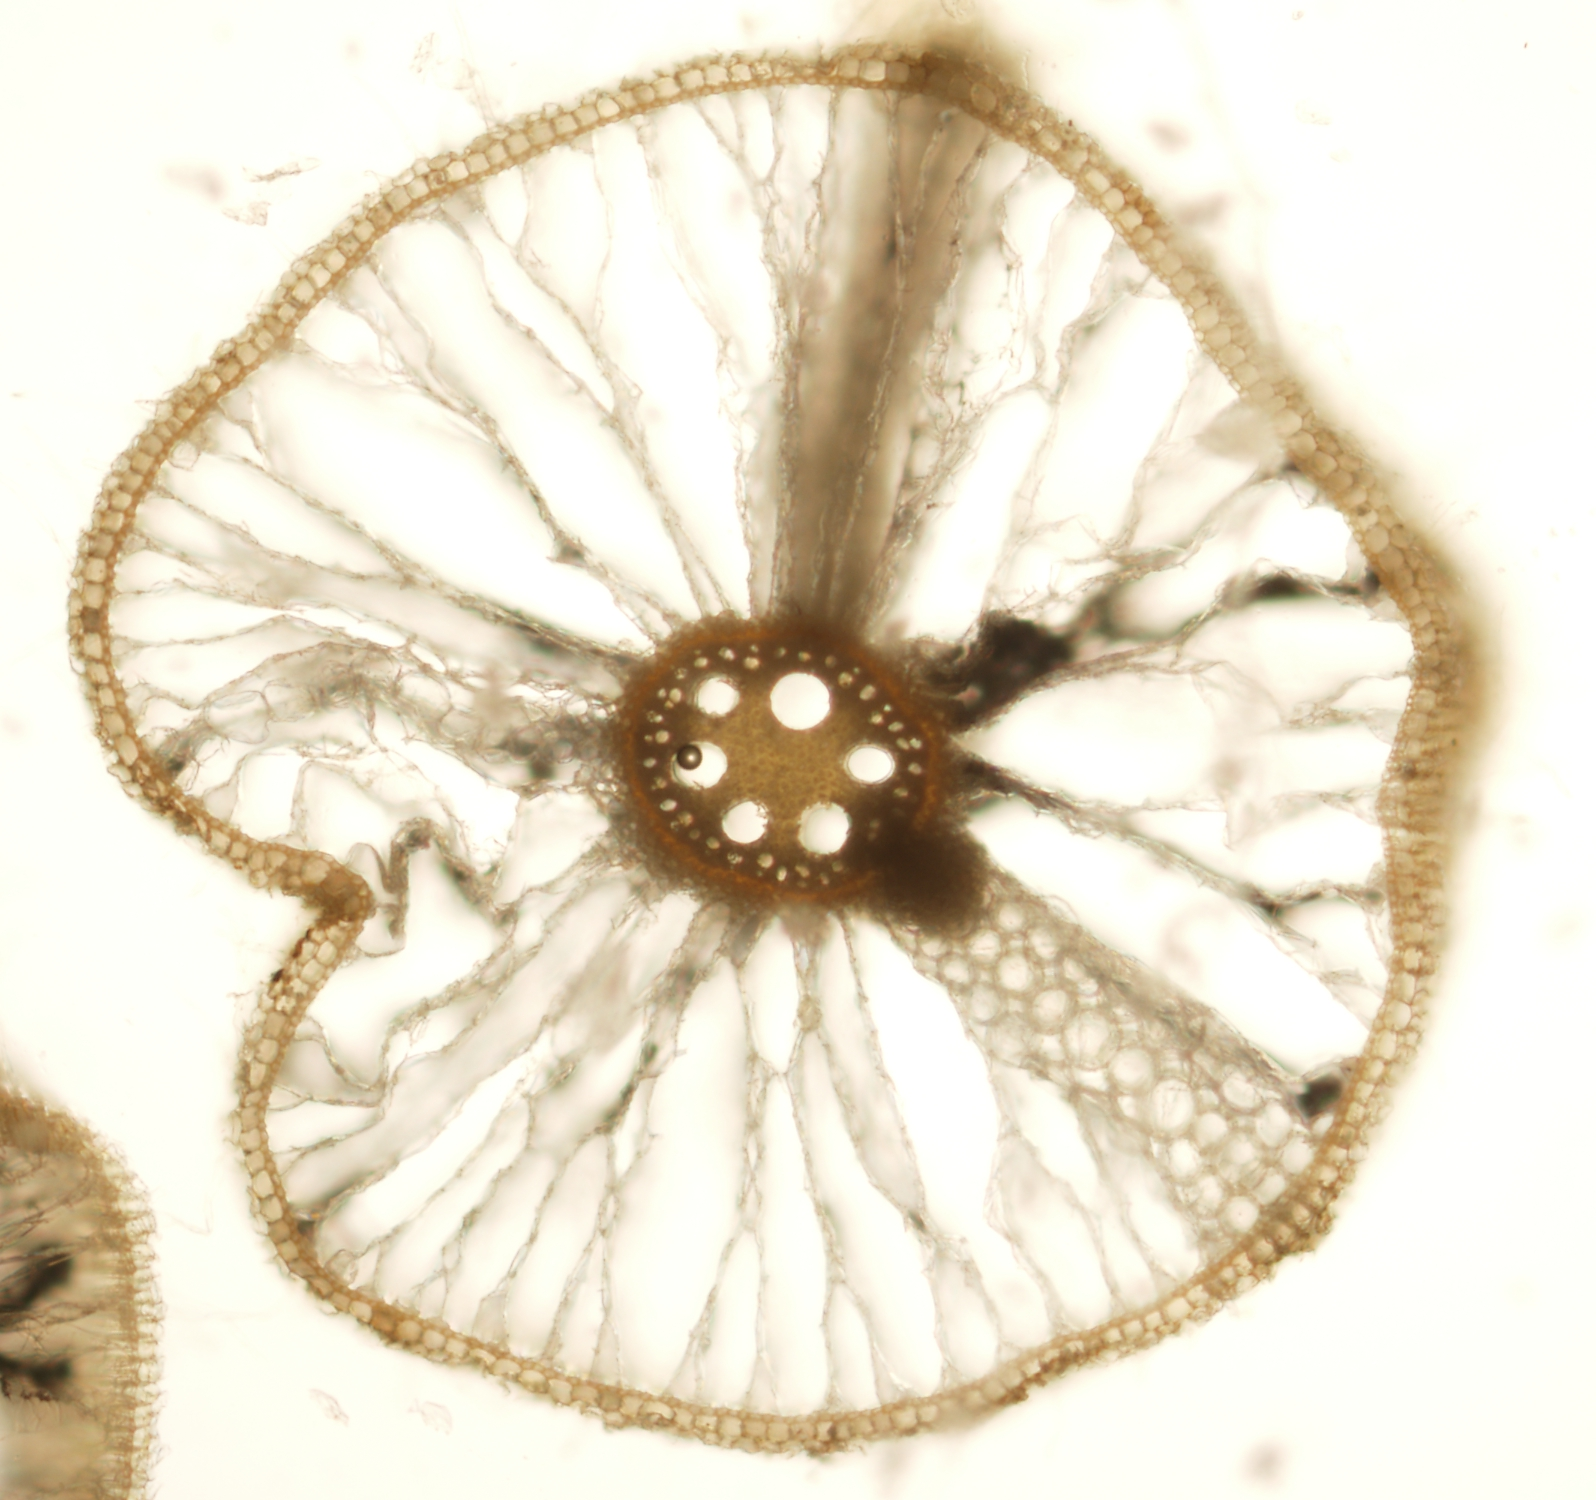lm: (770, 672, 829, 730), (798, 801, 850, 853), (671, 742, 728, 789), (720, 799, 768, 843), (846, 744, 892, 782), (696, 677, 739, 718)
